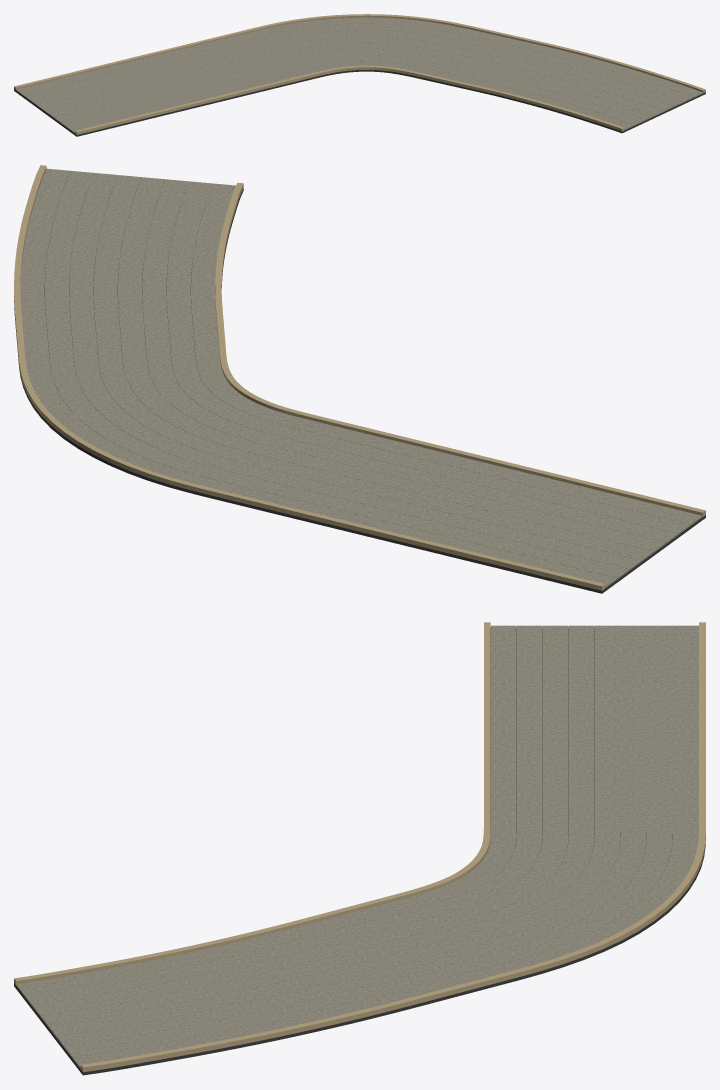
The model's file is track_main_08.fbx.
3 views of the same model, one above another, from view 1: azimuth 30°, elevation 25°; view 2: azimuth 150°, elevation 25°; view 3: azimuth 270°, elevation 25° (orthographic). The views are drawn at different scales.
Parts seen in each view (by area): view 1: roman_concrete.001, travertine.001, basalt.001; view 2: roman_concrete.001, travertine.001, basalt.001; view 3: roman_concrete.001, travertine.001, basalt.001.
Part boxes in pixels (<box>): roman_concrete.001: <box>16,17,703,133</box>; travertine.001: <box>14,14,705,134</box>; basalt.001: <box>14,70,705,136</box>; roman_concrete.001: <box>20,168,702,588</box>; travertine.001: <box>14,165,705,590</box>; basalt.001: <box>14,188,705,593</box>; roman_concrete.001: <box>16,625,698,1068</box>; travertine.001: <box>14,622,705,1072</box>; basalt.001: <box>14,627,705,1075</box>.
Size of the model in its own units: 485574 by 319009 by 4000.
